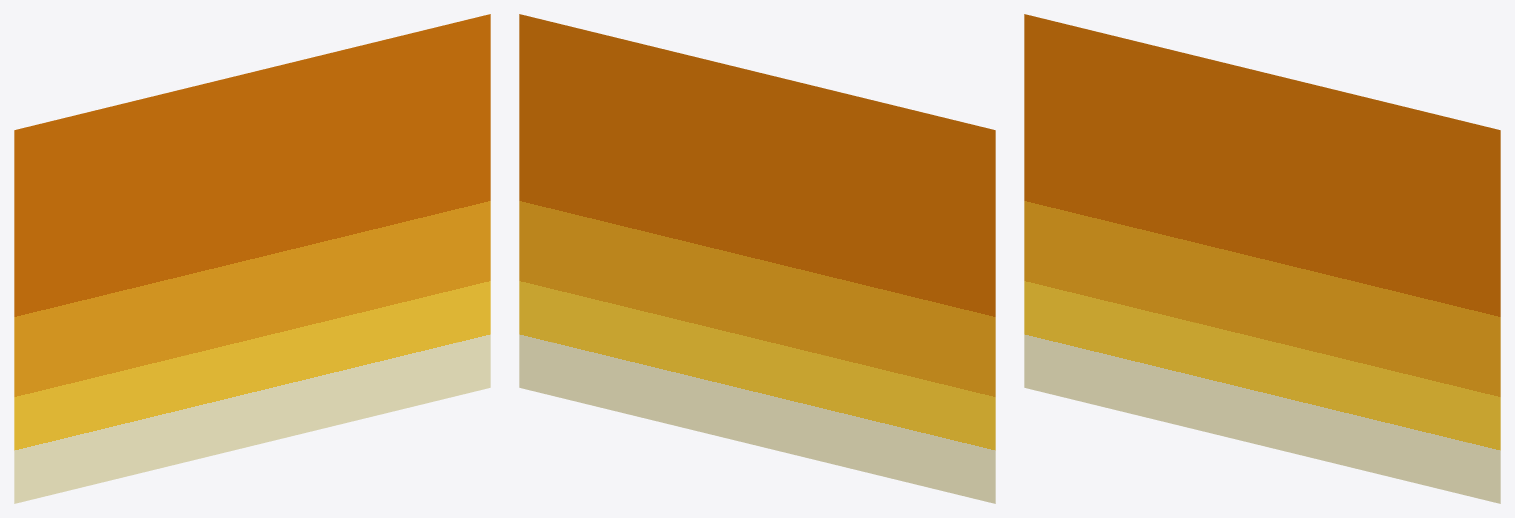
The picture shows the model from 3 angles, left to right: view 1: azimuth 30°, elevation 25°; view 2: azimuth 150°, elevation 25°; view 3: azimuth 330°, elevation 25°; orthographic projection.
Size of the model in its own units: 1 by 0.75 by 0.
1 material, 1 textured.
